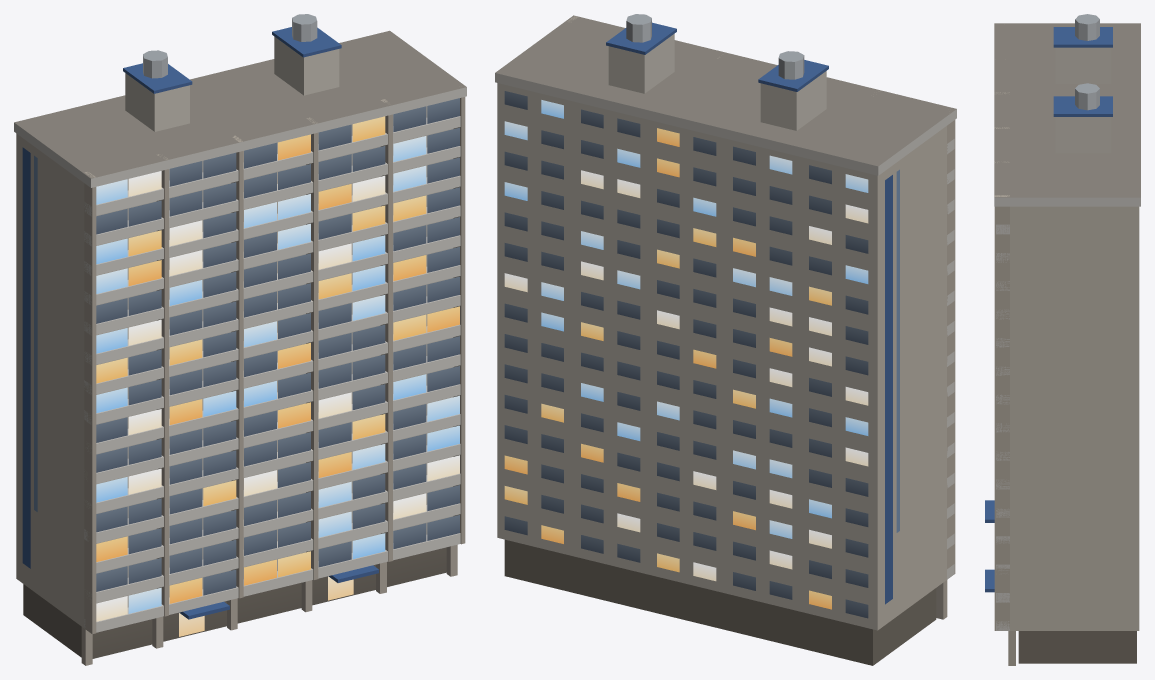
The model's file is bld_apt_A_intact.meshopt.glb.
3 renders of one model, left to right at view 1: azimuth 30°, elevation 25°; view 2: azimuth 150°, elevation 25°; view 3: azimuth 270°, elevation 25°, orthographic. The views are drawn at different scales.
Visible parts, largest first — view 1: bld_apt_A_intact; view 2: bld_apt_A_intact; view 3: bld_apt_A_intact.
Boxes of the visible parts, <box> form: bld_apt_A_intact: <box>14,14,466,665</box>; bld_apt_A_intact: <box>495,14,956,665</box>; bld_apt_A_intact: <box>985,14,1140,665</box>.
Size of the model in its own units: 38.3 by 53.8 by 14.45.
